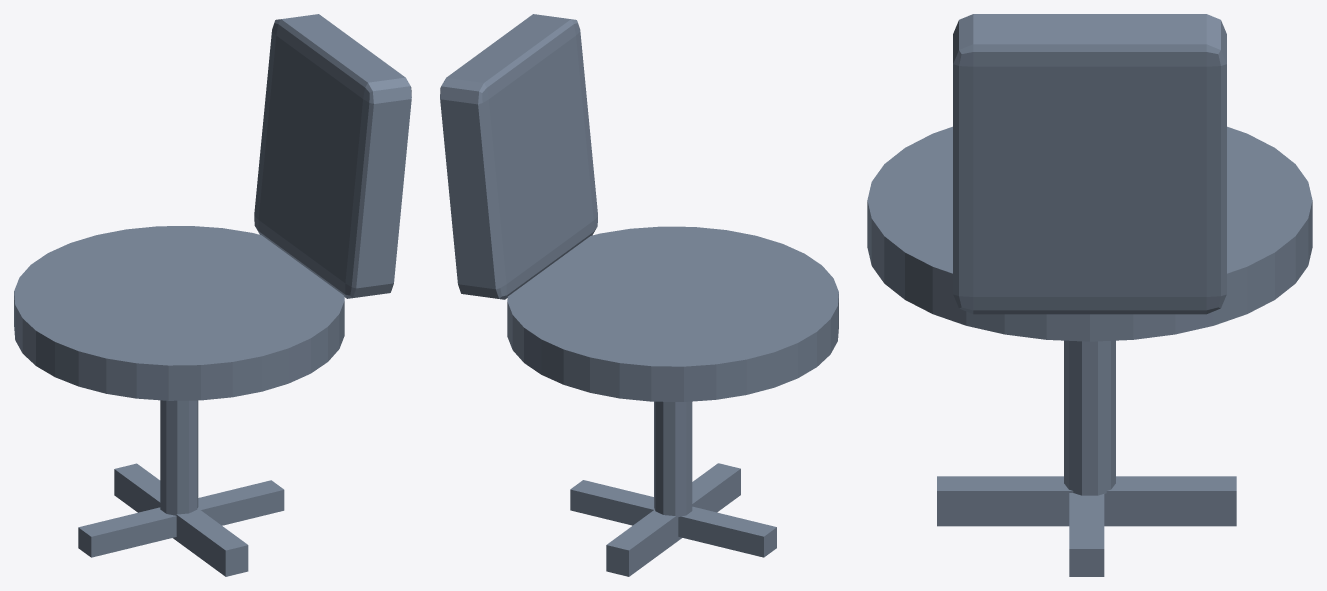
File: office_chair.fbx
3 views of the same model, side by side, from view 1: azimuth 30°, elevation 25°; view 2: azimuth 150°, elevation 25°; view 3: azimuth 270°, elevation 25° (orthographic). The views are drawn at different scales.
Parts seen in each view (by area): view 1: office_chair; view 2: office_chair; view 3: office_chair.
Boxes of the visible parts, bbox=[...] form: office_chair: bbox=[14, 14, 411, 576]; office_chair: bbox=[440, 14, 838, 576]; office_chair: bbox=[867, 14, 1312, 576].
Size of the model in its own units: 76.92 by 99.96 by 67.24.
